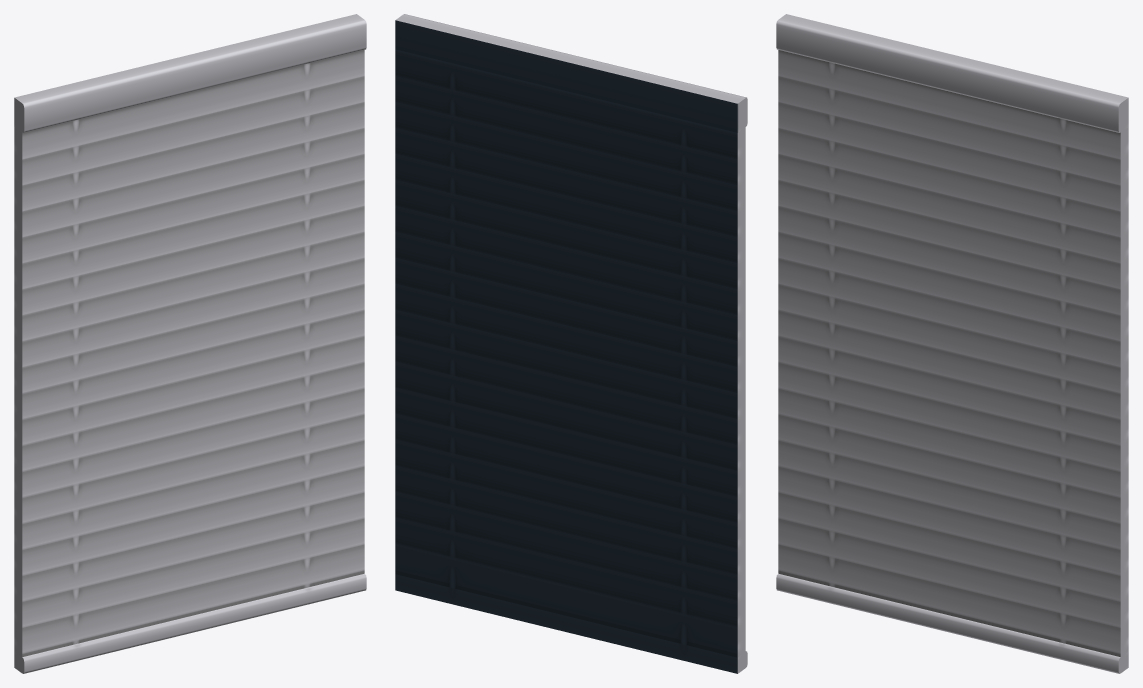
File: PropBlinds01TypeA_1.FBX
The picture shows the model from 3 angles, left to right: view 1: azimuth 30°, elevation 25°; view 2: azimuth 150°, elevation 25°; view 3: azimuth 330°, elevation 25°; orthographic projection.
Parts seen in each view (by area): view 1: PropBlinds01TypeA_1; view 2: PropBlinds01TypeA_1; view 3: PropBlinds01TypeA_1.
Boxes of the visible parts, x1=… form: PropBlinds01TypeA_1: x1=14, y1=14, x2=366, y2=673; PropBlinds01TypeA_1: x1=395, y1=14, x2=747, y2=673; PropBlinds01TypeA_1: x1=776, y1=14, x2=1128, y2=673.
Size of what is drawn, in the model's own units: 1.1 by 1.75 by 0.055.
